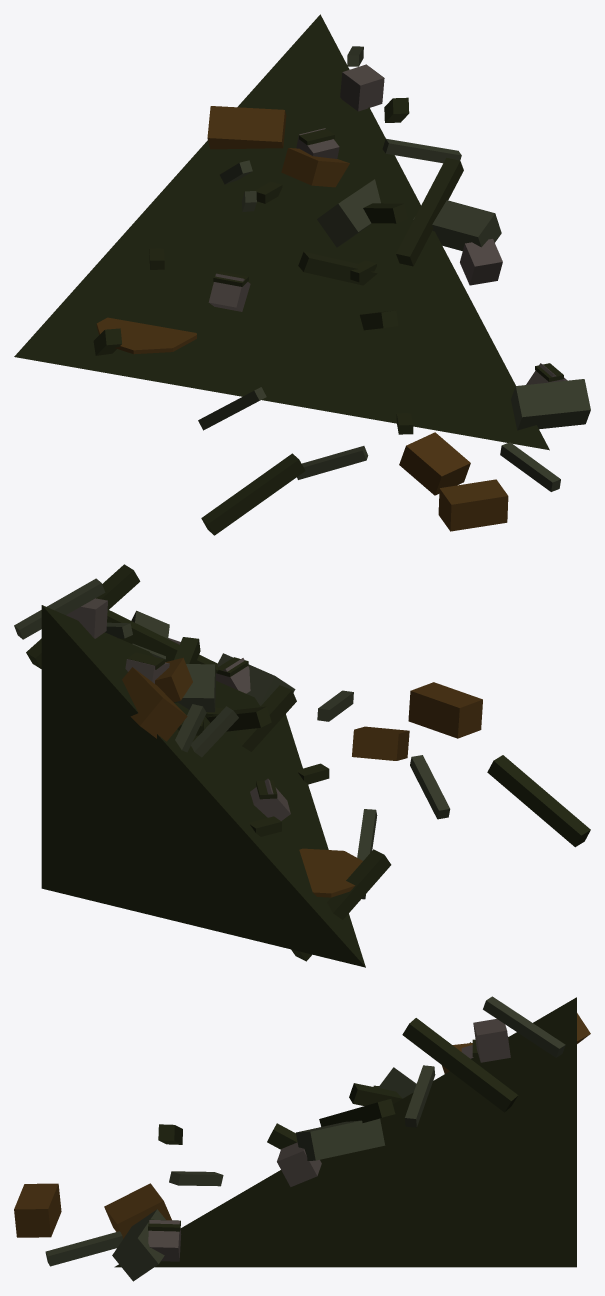
File: SM_PilaZombi_RemateIzq_Altura4_s0_LOD0.fbx
3 renders of one model, top to bottom at view 1: azimuth 30°, elevation 25°; view 2: azimuth 150°, elevation 25°; view 3: azimuth 270°, elevation 25°, orthographic. The views are drawn at different scales.
Visible parts, largest first — view 1: SM_pila_zombis_v3_LOD0; view 2: SM_pila_zombis_v3_LOD0; view 3: SM_pila_zombis_v3_LOD0.
Boxes of the visible parts, x1=… form: SM_pila_zombis_v3_LOD0: x1=14, y1=14, x2=590, y2=535; SM_pila_zombis_v3_LOD0: x1=14, y1=564, x2=590, y2=967; SM_pila_zombis_v3_LOD0: x1=14, y1=996, x2=590, y2=1281.
Bounding box in the file's own units: 2.99 × 2.27 × 3.97.
